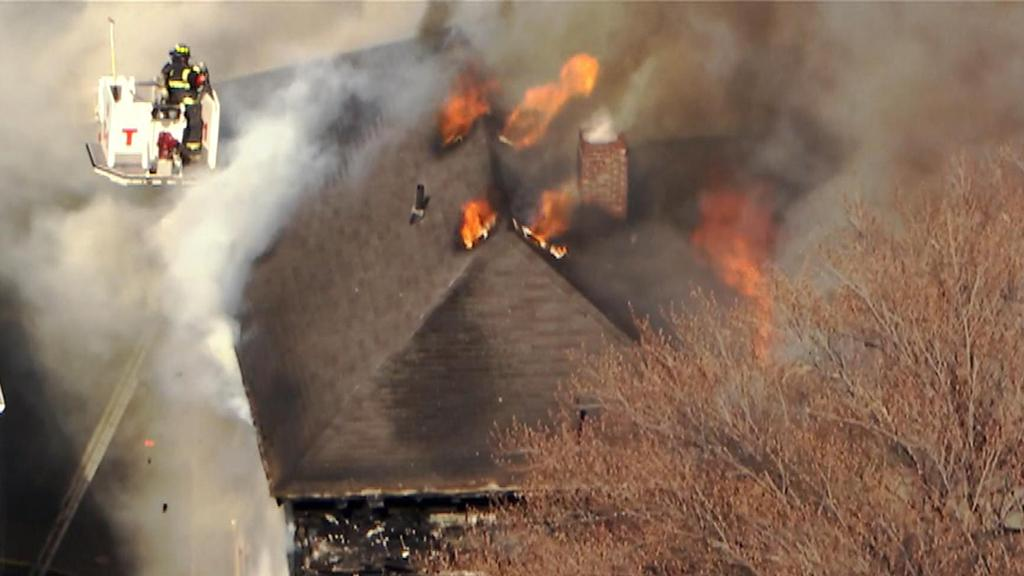Fire: (432, 56, 848, 384)
